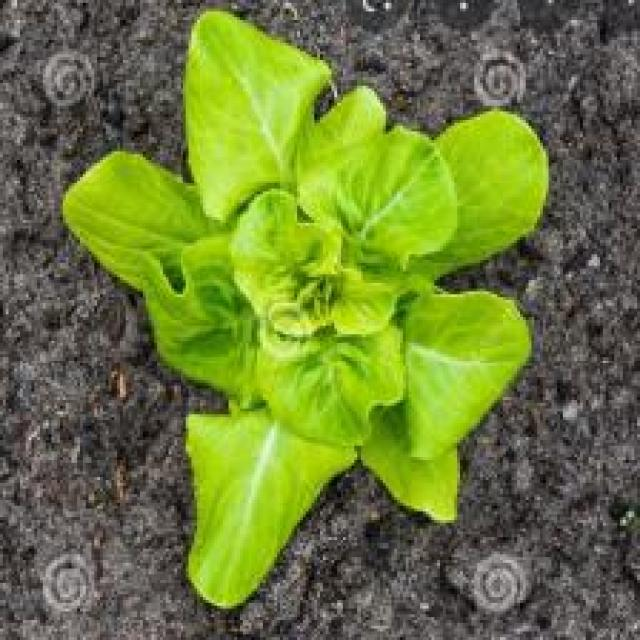Lettuce: (57, 5, 561, 611)
